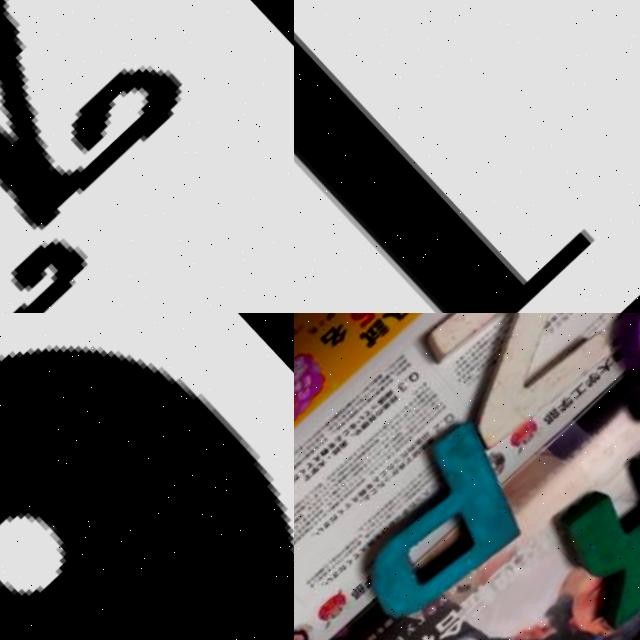6: (0, 313, 294, 640)
J: (294, 0, 640, 313)
K: (530, 431, 640, 640)
M: (0, 0, 114, 313)
P: (319, 409, 547, 636)
Z: (396, 313, 640, 466)
